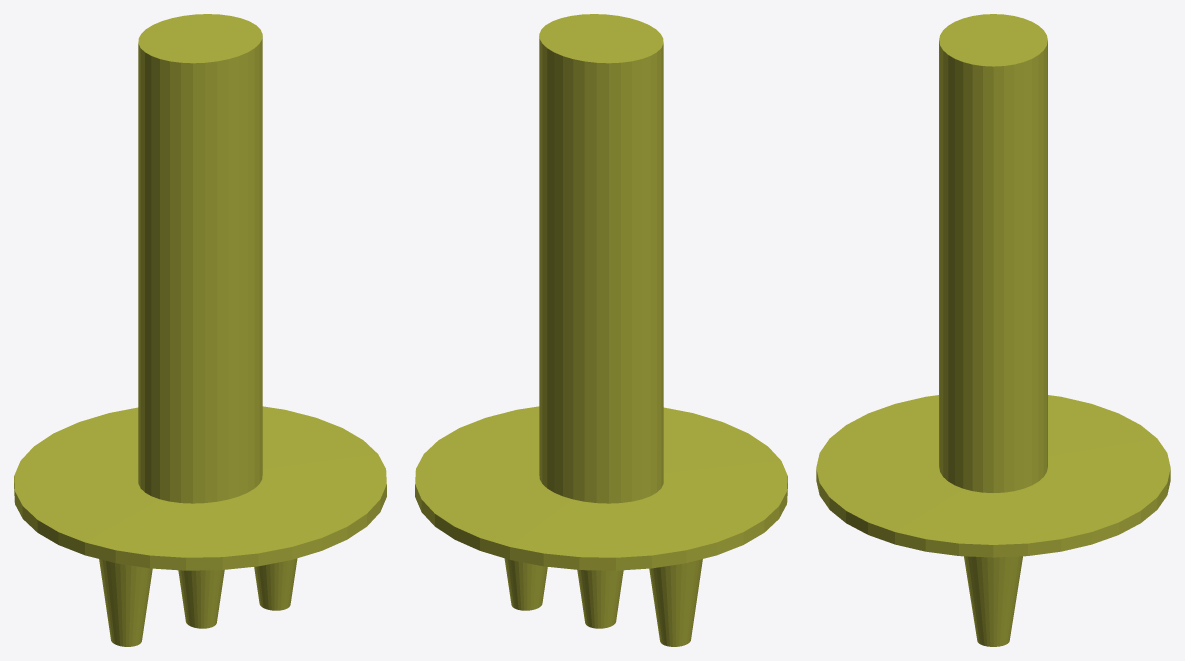
Rendered from FIL3.fbx.
The picture shows the model from 3 angles, left to right: view 1: azimuth 30°, elevation 25°; view 2: azimuth 150°, elevation 25°; view 3: azimuth 270°, elevation 25°; orthographic projection. The views are drawn at different scales.
Visible parts, largest first — view 1: Cylinder.003; view 2: Cylinder.003; view 3: Cylinder.003.
Boxes of the visible parts, x1,y1,x2,y2 form: Cylinder.003: (14, 14, 386, 646); Cylinder.003: (415, 14, 787, 646); Cylinder.003: (816, 14, 1170, 646).
Bounding box in the file's own units: 303 × 518 × 295.
